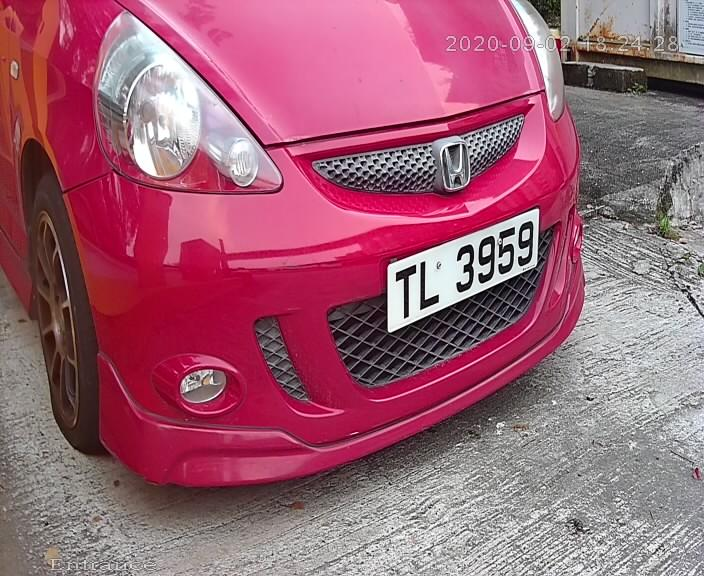License Plate: (384, 209, 538, 337)
